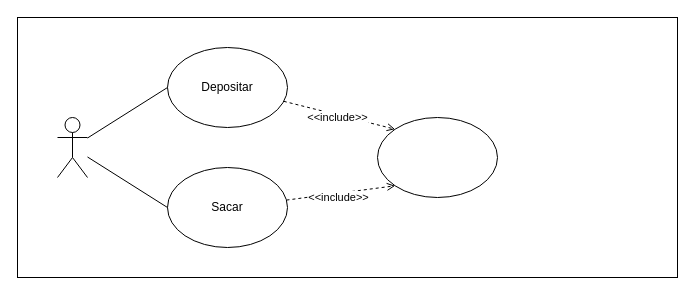
Some shapes in this 695 by 295 pixel diagram are drawn without their labels. The box of each missing label's shape, as (x1, y1, x2, y2) in pixels:
Cliente: (56, 116, 88, 178)
Registrar Movimentação Financeira: (376, 116, 498, 198)
